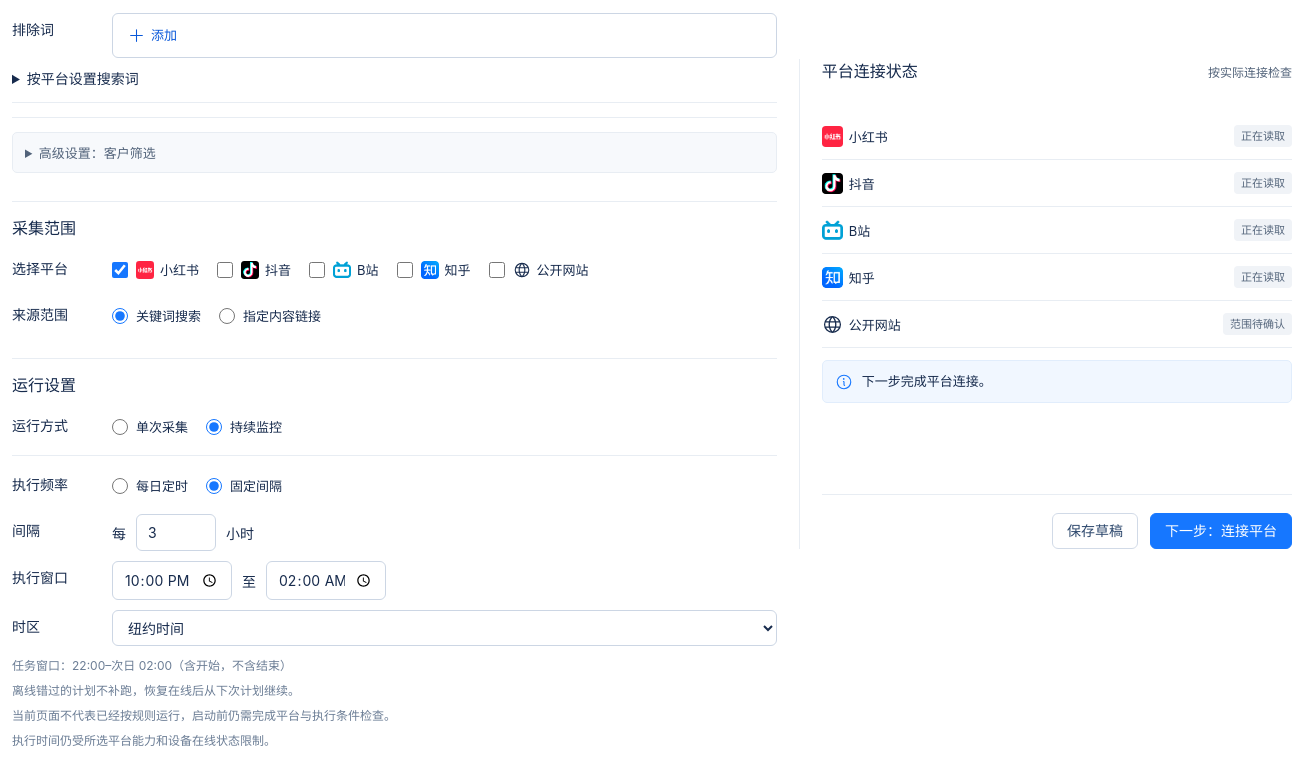
Test: blocks equal start/end before advancing and preserves the input
(page scrolled)
Replace the text in the time field named "执行窗口结束" with "22:00" at (326, 580), box [266,561,386,600]
(page scrolled)
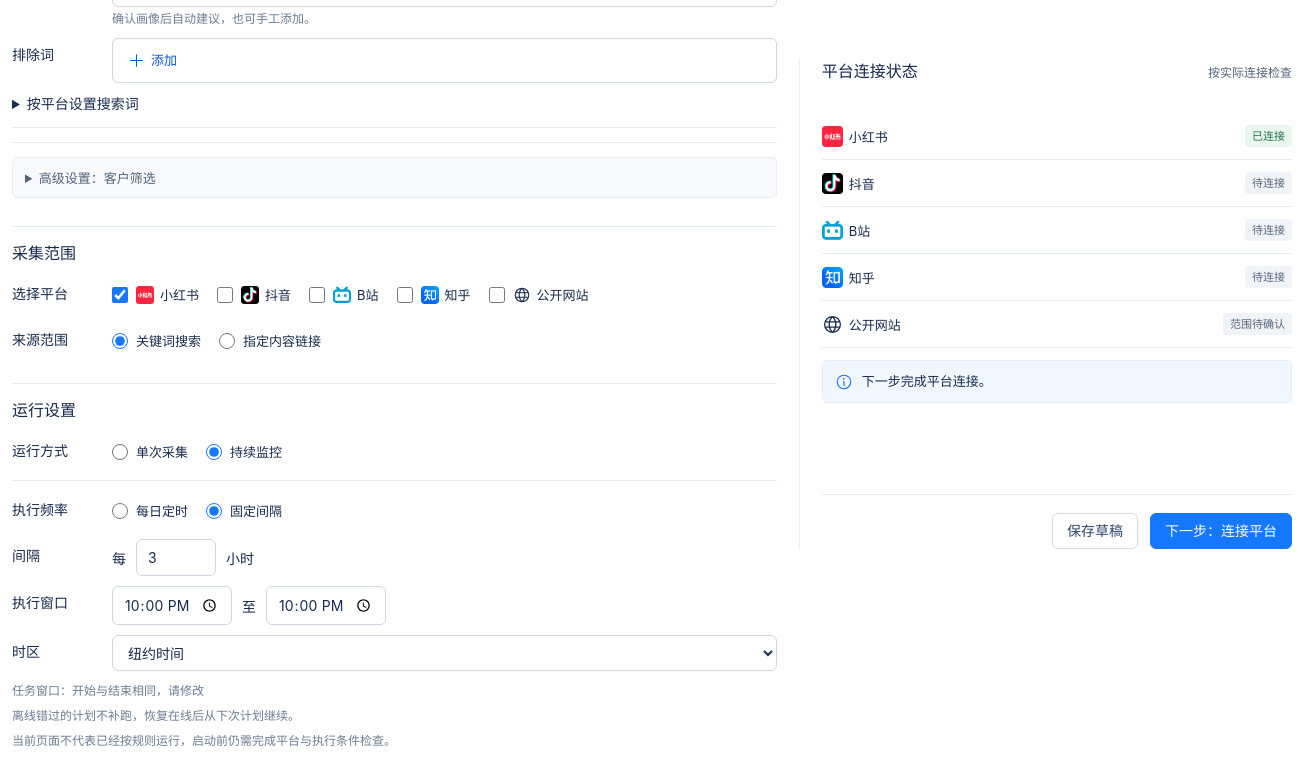
Click the button "下一步：连接平台" at (1221, 531), box [1150,513,1292,549]
(page scrolled)
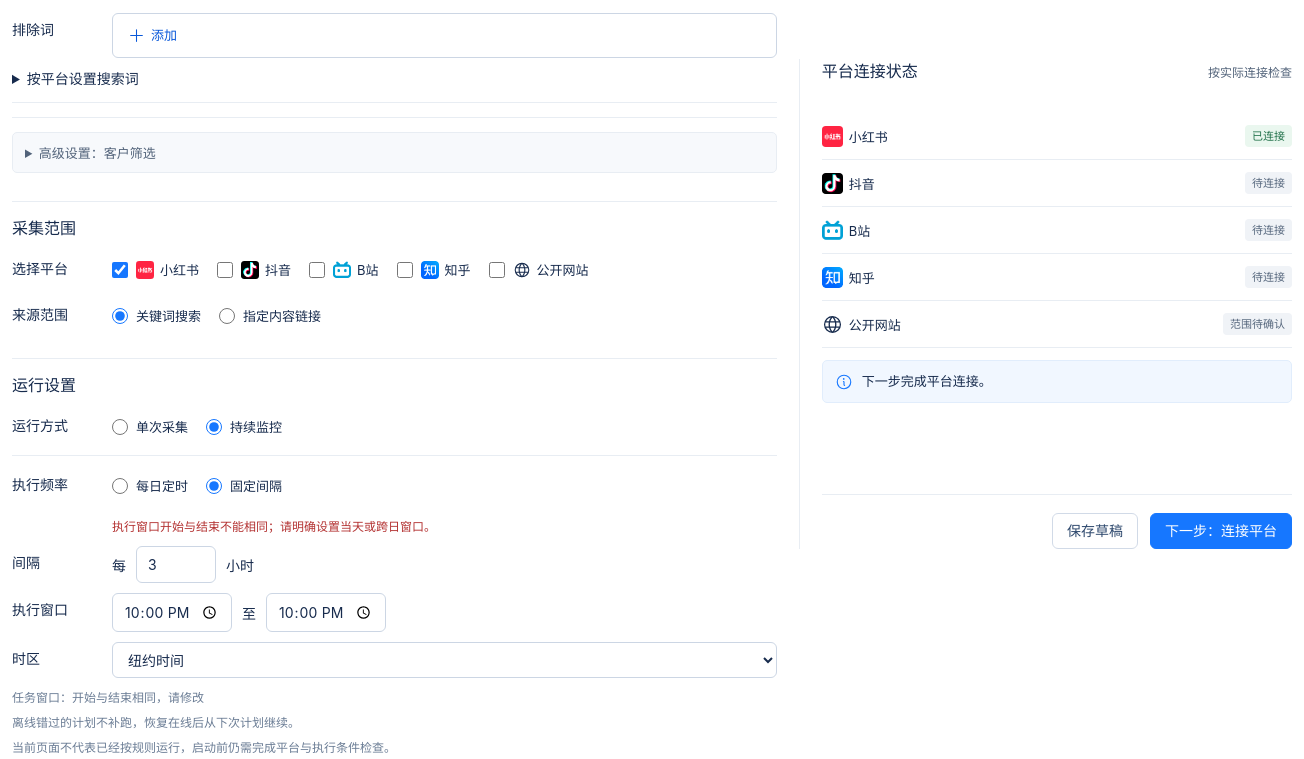
Now the text "执行窗口开始与结束不能相同；请明确设置当天或跨日窗口。" is shown, box [112,519,436,534]
